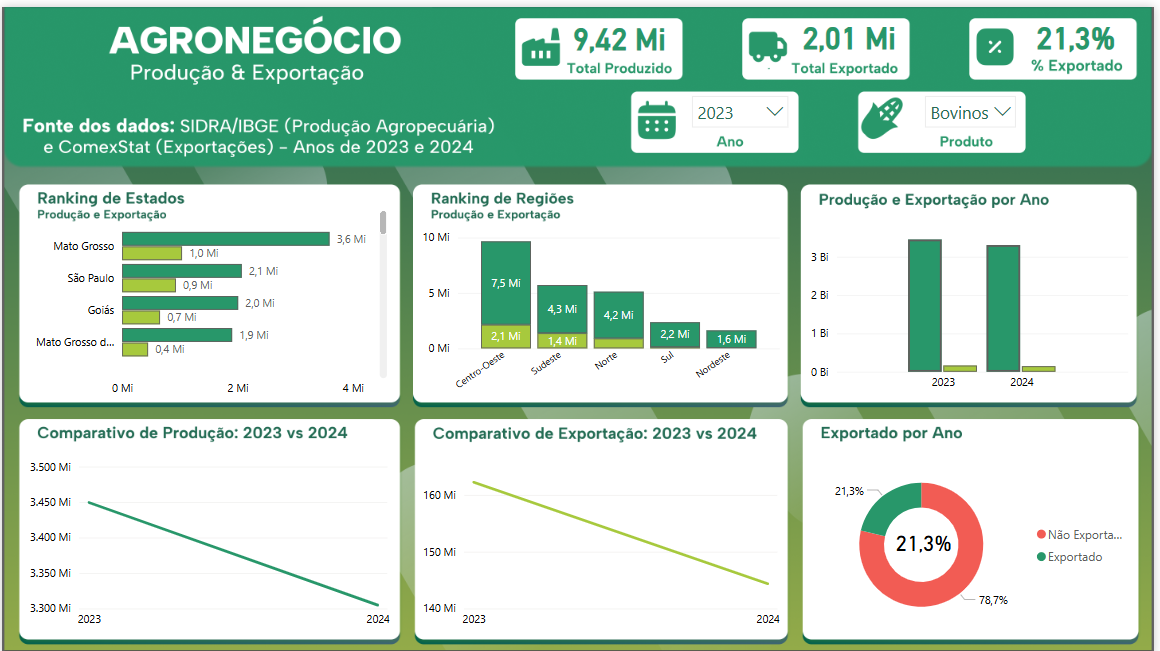

The page's visual inventory and layout, read from the dashboard file:
{"tool":"powerbi","page":{"name":"Página 1","canvas":[1280,720],"ordinal":0},"visuals":[{"type":"lineClusteredColumnComboChart","fields":{"Category":["projeto_exportacao_agro vw_evolucao_anual_producao_exportacao.ano"],"Y":["projeto_exportacao_agro vw_evolucao_anual_producao_exportacao.Total Produzido Ano","projeto_exportacao_agro vw_evolucao_anual_producao_exportacao.Total Exportado Ano"]},"box":[893.3,241.7,363.3,193.3],"z":0},{"type":"card","fields":{"Values":["projeto_exportacao_agro fatos_producao.% Exportado Formatado"]},"box":[975,550,96.7,90],"z":1000},{"type":"clusteredBarChart","title":"Ranking de","fields":{"Category":["RankingEstados.Estado"],"Y":["Sum(RankingEstados.total_produzido)","Sum(RankingEstados.total_exportado)"]},"box":[16.7,213.3,416.7,228.3],"z":2000},{"type":"columnChart","fields":{"Category":["RankingRegioes.Regiao"],"Y":["Sum(RankingRegioes.total_produzido)","Sum(RankingRegioes.total_exportado)"]},"box":[461.7,241.7,406.7,193.3],"z":3000},{"type":"lineChart","fields":{"Category":["EvolucaoAnualProducaoExportacao.ano"],"Y":["EvolucaoAnualProducaoExportacao.Produção"]},"box":[25,496.7,410,201.7],"z":4000},{"type":"lineChart","fields":{"Category":["EvolucaoAnualProducaoExportacao.ano"],"Y":["EvolucaoAnualProducaoExportacao.Exportação"]},"box":[461.7,496.7,406.7,201.7],"z":5000},{"type":"donutChart","fields":{"Category":["CategoriasExportacao.Categoria"],"Y":["FatosProducao.ValorExportacao"]},"box":[888.3,496.7,375,201.7],"z":6000},{"type":"slicer","fields":{"Values":["Produtos.Nome"]},"box":[1015.7,88.6,121.4,55.7],"z":7000},{"type":"slicer","fields":{"Values":["FatosProducao.Ano"]},"box":[757.1,88.6,127.1,57.1],"z":8000},{"type":"card","fields":{"Values":["FatosProducao.Total Produzido"]},"box":[617.1,4.3,138.6,57.1],"z":9000},{"type":"card","fields":{"Values":["FatosProducao.Total Exportado"]},"box":[871.4,5.7,140,52.9],"z":10000},{"type":"card","fields":{"Values":["FatosProducao.% Exportado"]},"box":[1130,7.1,125.7,50],"z":11000}]}

Visuals, with their boxes in screenshot pixels (x1, y1, x2, y2), scaled from the page's 1280x720 canvas onto the 1160x651 screenshot:
lineClusteredColumnComboChart - projeto_exportacao_agro vw_evolucao_anual_producao_exportacao.ano x projeto_exportacao_agro vw_evolucao_anual_producao_exportacao.Total Produzido Ano: 810 219 1139 393
card - projeto_exportacao_agro fatos_producao.% Exportado Formatado: 884 497 971 579
"Ranking de" clusteredBarChart: 15 193 393 399
columnChart - RankingRegioes.Regiao x Sum(RankingRegioes.total_produzido): 418 219 787 393
lineChart - EvolucaoAnualProducaoExportacao.ano x EvolucaoAnualProducaoExportacao.Produção: 23 449 394 631
lineChart - EvolucaoAnualProducaoExportacao.ano x EvolucaoAnualProducaoExportacao.Exportação: 418 449 787 631
donutChart - CategoriasExportacao.Categoria x FatosProducao.ValorExportacao: 805 449 1145 631
slicer - Produtos.Nome: 920 80 1030 130
slicer - FatosProducao.Ano: 686 80 801 132
card - FatosProducao.Total Produzido: 559 4 685 56
card - FatosProducao.Total Exportado: 790 5 917 53
card - FatosProducao.% Exportado: 1024 6 1138 52
